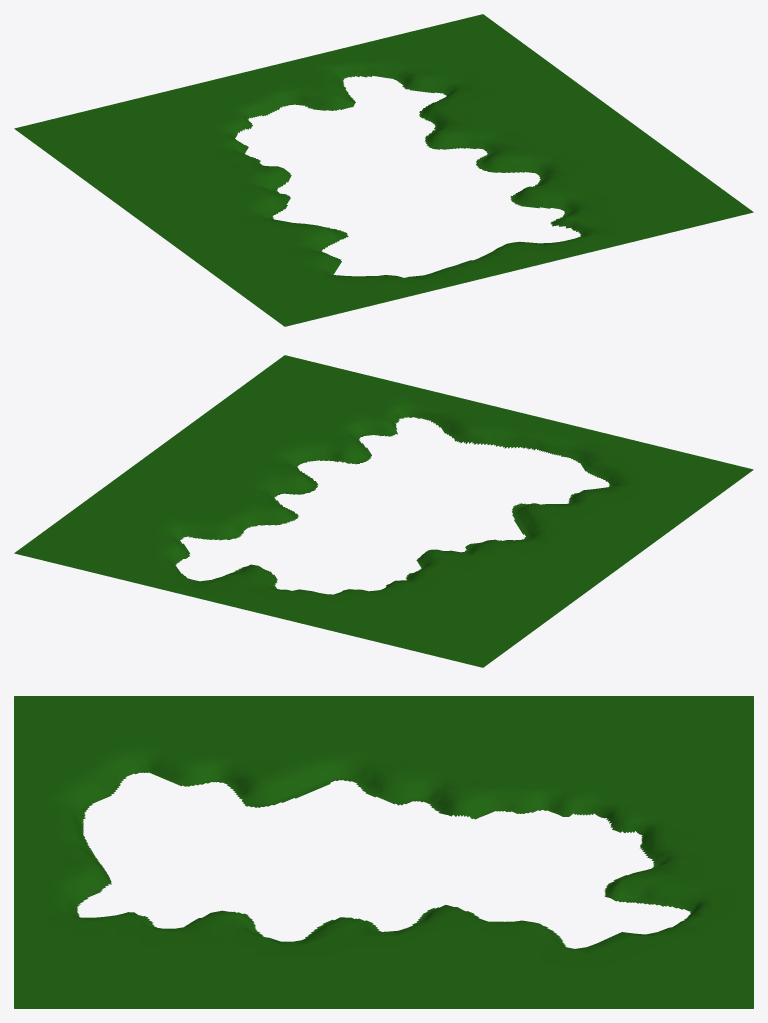
File: terrain_surface2.glb
The picture shows the model from 3 angles, top to bottom: view 1: azimuth 30°, elevation 25°; view 2: azimuth 150°, elevation 25°; view 3: azimuth 270°, elevation 25°; orthographic projection. The views are drawn at different scales.
Visible parts, largest first — view 1: Grid; view 2: Grid; view 3: Grid.
Boxes of the visible parts, <box> form: Grid: <box>14,14,753,326</box>; Grid: <box>14,355,753,667</box>; Grid: <box>14,696,753,1008</box>.
Bounding box in the file's own units: 598 × 13.1 × 598.
